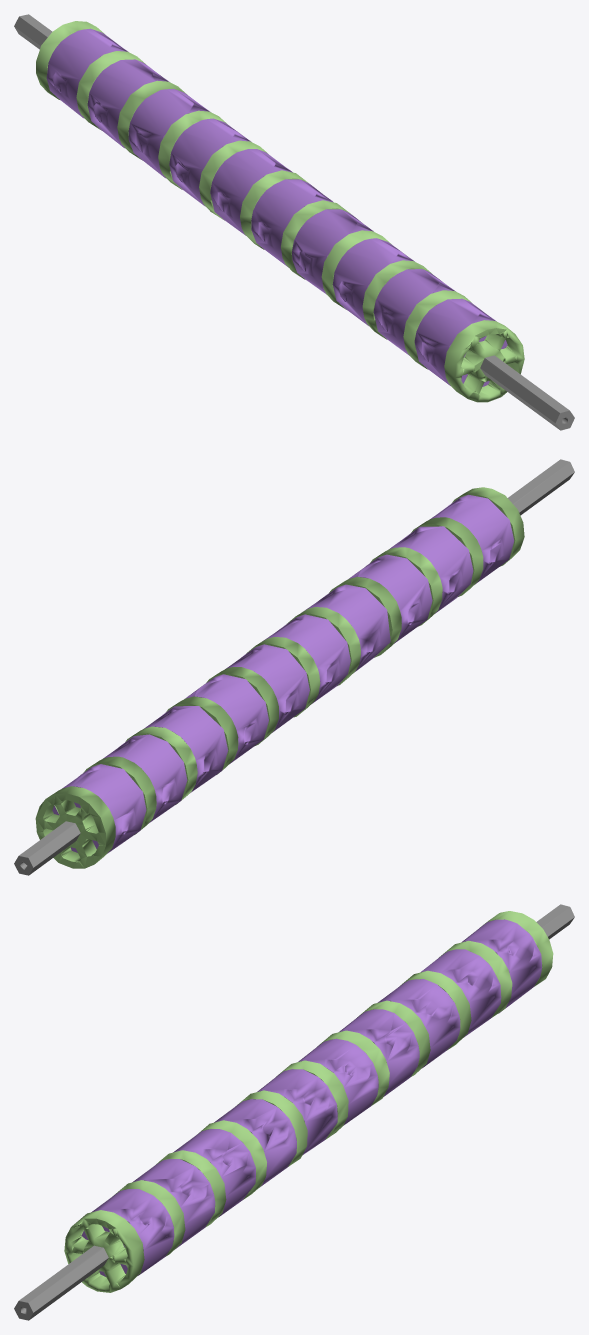
The model's file is GreenIntakeWheels.dae.
The picture shows the model from 3 angles, top to bottom: view 1: azimuth 30°, elevation 25°; view 2: azimuth 150°, elevation 25°; view 3: azimuth 330°, elevation 25°; orthographic projection.
Parts seen in each view (by area): view 1: GreenIntakeWheels; view 2: GreenIntakeWheels; view 3: GreenIntakeWheels.
Part boxes in pixels (x1,y1,x2,y2): GreenIntakeWheels: (14, 14, 574, 430); GreenIntakeWheels: (14, 459, 574, 875); GreenIntakeWheels: (14, 904, 574, 1320).
Bounding box in the file's own units: 0.0509 × 0.6731 × 0.0509.
